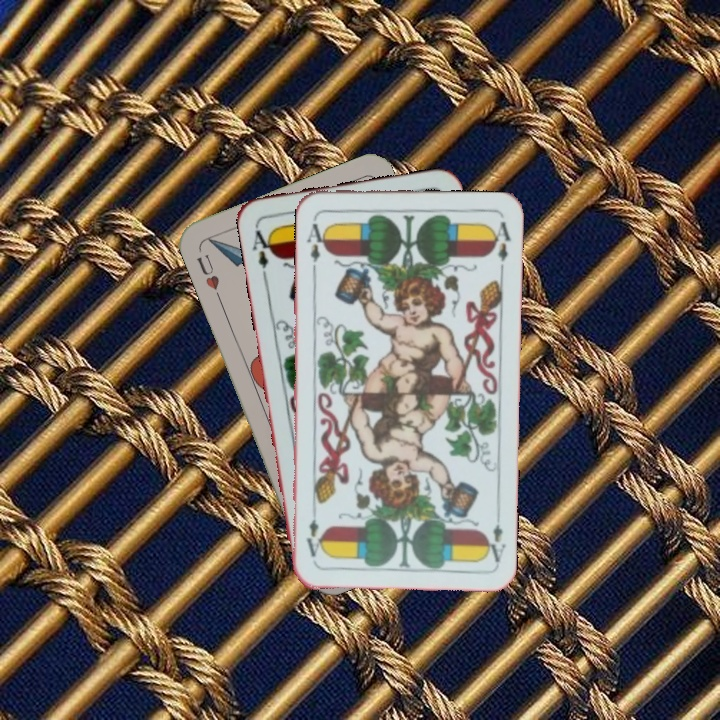EA: (302, 213, 329, 272), (482, 507, 509, 565), (248, 222, 277, 271)
HU: (192, 250, 224, 302)
